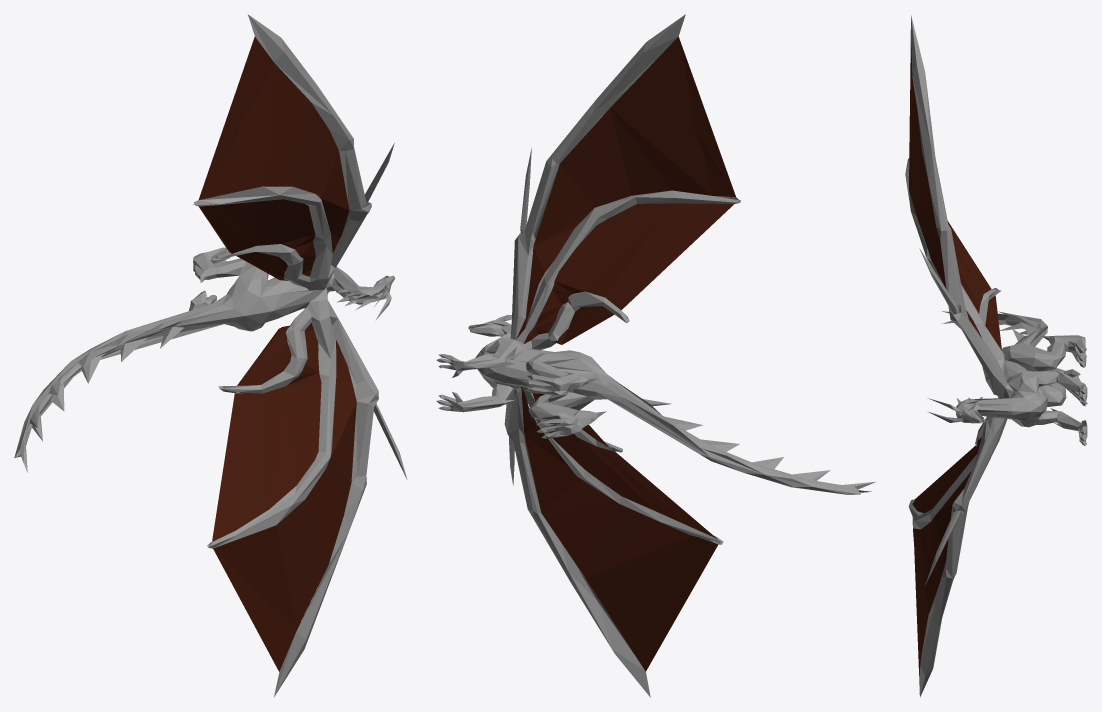
Rendered from Dragon_2.5_For_Animations_000279.obj.
3 renders of one model, left to right at view 1: azimuth 30°, elevation 25°; view 2: azimuth 150°, elevation 25°; view 3: azimuth 270°, elevation 25°, orthographic. The views are drawn at different scales.
Visible parts, largest first — view 1: Cube_Cube.004; view 2: Cube_Cube.004; view 3: Cube_Cube.004.
Part boxes in pixels (x1,y1,x2,y2): Cube_Cube.004: [14, 14, 407, 696]; Cube_Cube.004: [436, 14, 876, 697]; Cube_Cube.004: [905, 15, 1087, 697].
Size of the model in its own units: 89.05 by 151 by 37.27.
